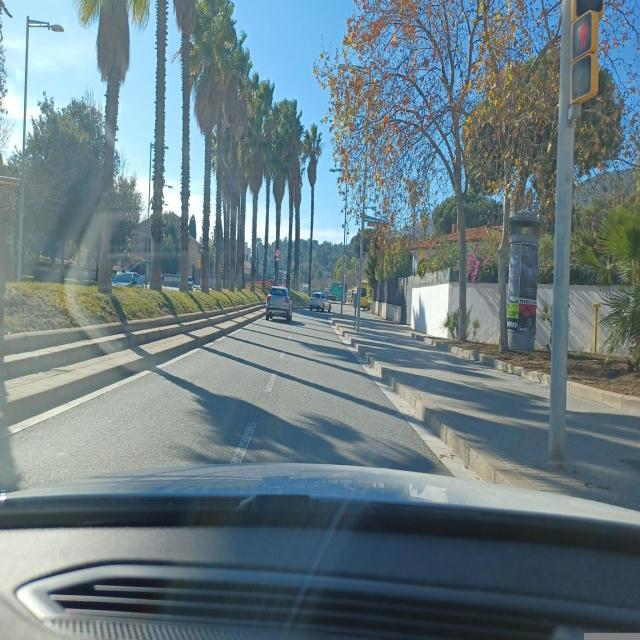car: (266, 284, 292, 322), (308, 290, 332, 316), (112, 270, 145, 286)
